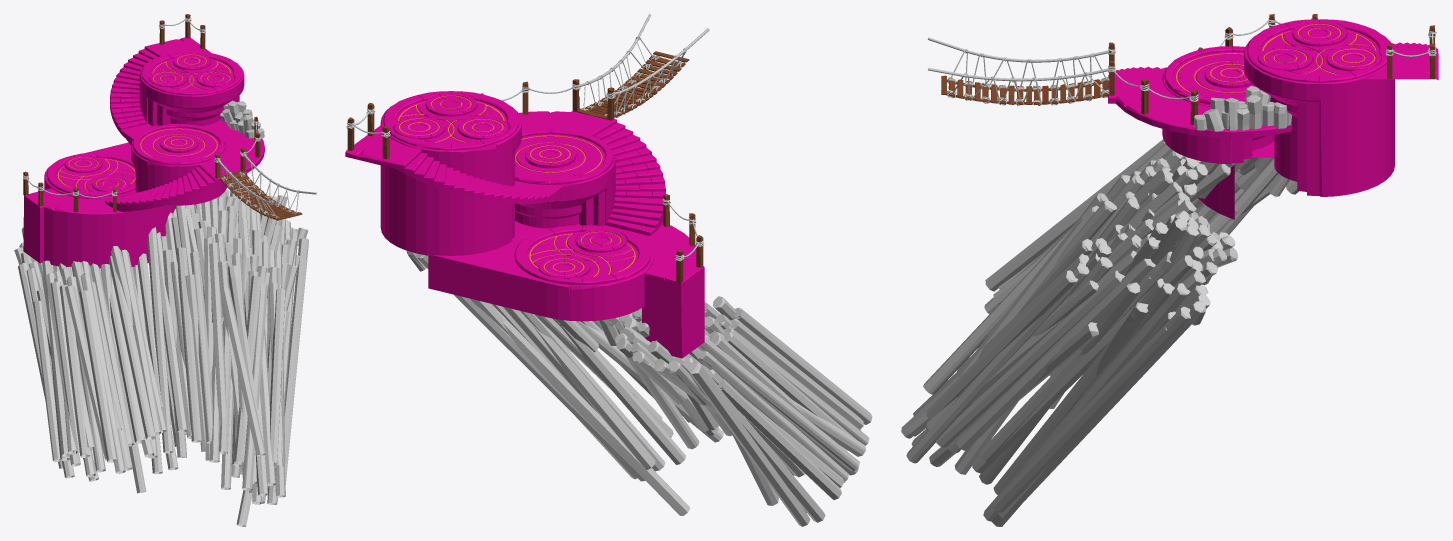
File: Merchant_Full.fbx
3 renders of one model, left to right at view 1: azimuth 30°, elevation 25°; view 2: azimuth 150°, elevation 25°; view 3: azimuth 270°, elevation 25°, orthographic. The views are drawn at different scales.
Parts seen in each view (by area): view 1: SM_WaterPlane_03.mo, SM_Merchant_Platform_02.mo, SM_Merchant_Platform_03.mo, SM_Merchant_Platform_01.mo, SM_Merchant_Platform_03_Circle.mo, SM_Merchant_Platform_02_Circle.mo, SM_Merchant_Platform_01_Circle.mo, SM_Bridge_03.mo, SM_Waterfall_Rocks_Small_02.mo, SM_Waterfall_Rocks_Small_01.mo, SM_Merchant_Platform_01_Emissive.mo; view 2: SM_WaterPlane_03.mo, SM_Merchant_Platform_03.mo, SM_Merchant_Platform_02.mo, SM_Merchant_Platform_01.mo, SM_Merchant_Platform_02_Circle.mo, SM_Merchant_Platform_03_Circle.mo, SM_Merchant_Platform_01_Circle.mo, SM_Bridge_03.mo; view 3: SM_WaterPlane_03.mo, SM_Merchant_Platform_03.mo, SM_Merchant_Platform_03_Circle.mo, SM_Merchant_Platform_01.mo, SM_Bridge_03.mo, SM_Merchant_Platform_01_Circle.mo, SM_Waterfall_Rocks_Small_01.mo, SM_Waterfall_Rocks_Small_02.mo, SM_Merchant_Platform_02.mo.
Boxes of the visible parts, x1,y1,x2,y2 form: SM_WaterPlane_03.mo: (14,189,308,526); SM_Merchant_Platform_02.mo: (23,142,175,268); SM_Merchant_Platform_03.mo: (110,37,244,144); SM_Merchant_Platform_01.mo: (105,119,264,211); SM_Merchant_Platform_03_Circle.mo: (141,51,242,95); SM_Merchant_Platform_02_Circle.mo: (46,152,135,196); SM_Merchant_Platform_01_Circle.mo: (132,123,225,165); SM_Bridge_03.mo: (214,147,316,220); SM_Waterfall_Rocks_Small_02.mo: (232,109,264,138); SM_Waterfall_Rocks_Small_01.mo: (220,100,253,130); SM_Merchant_Platform_01_Emissive.mo: (140,128,217,157); SM_WaterPlane_03.mo: (406,251,872,526); SM_Merchant_Platform_03.mo: (345,105,564,255); SM_Merchant_Platform_02.mo: (428,220,704,358); SM_Merchant_Platform_01.mo: (515,111,665,235); SM_Merchant_Platform_02_Circle.mo: (514,225,650,285); SM_Merchant_Platform_03_Circle.mo: (383,91,519,150); SM_Merchant_Platform_01_Circle.mo: (514,128,613,184); SM_Bridge_03.mo: (572,14,709,120); SM_WaterPlane_03.mo: (901,139,1298,526); SM_Merchant_Platform_03.mo: (1244,35,1438,196); SM_Merchant_Platform_03_Circle.mo: (1246,19,1390,82); SM_Merchant_Platform_01.mo: (1108,66,1292,163); SM_Bridge_03.mo: (927,37,1115,105); SM_Merchant_Platform_01_Circle.mo: (1164,46,1260,104); SM_Waterfall_Rocks_Small_01.mo: (1221,86,1291,129); SM_Waterfall_Rocks_Small_02.mo: (1194,97,1249,131); SM_Merchant_Platform_02.mo: (1198,141,1274,219).
Size of the model in its own units: 2002 by 2505 by 2222.
